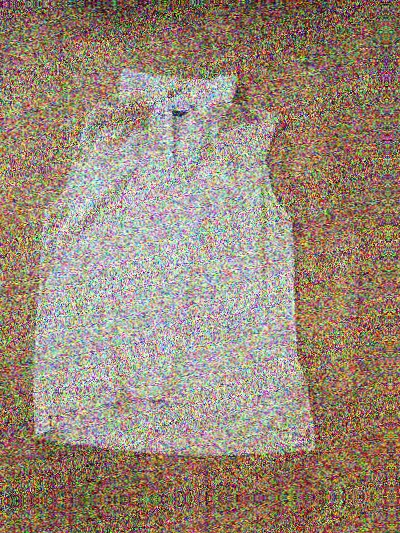Blouse: (22, 54, 354, 475), (28, 524, 359, 533)
